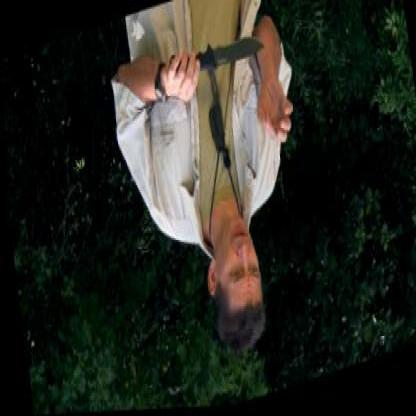knife: (166, 27, 269, 101)
